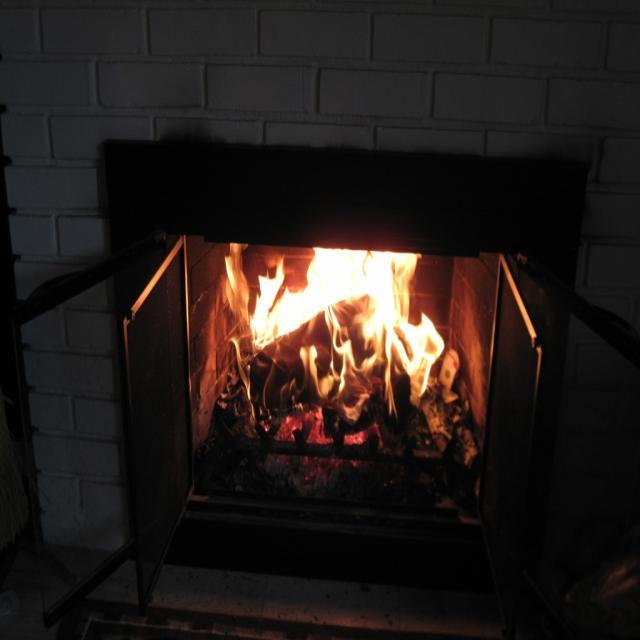Fire: (218, 242, 447, 446)
